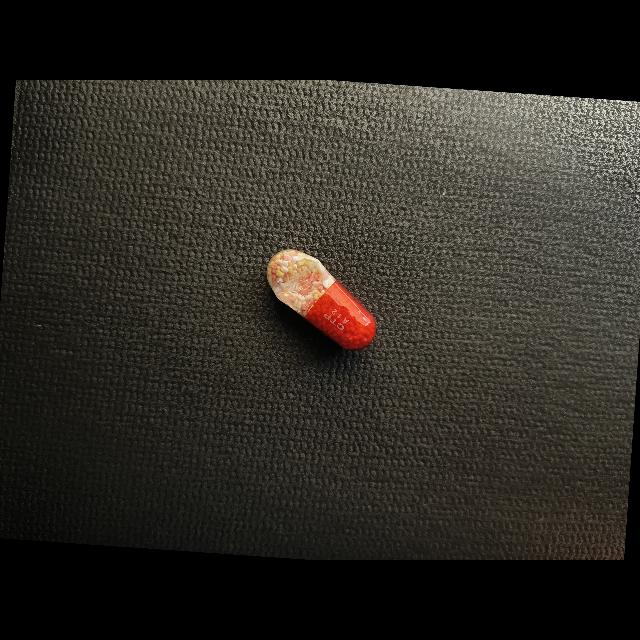Defective Capsule: (267, 249, 376, 351)
